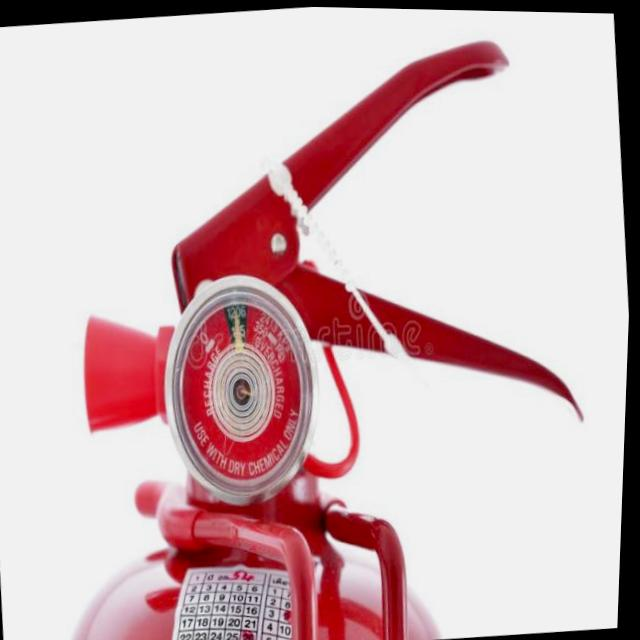FireExtinguisher: (6, 18, 617, 640)
